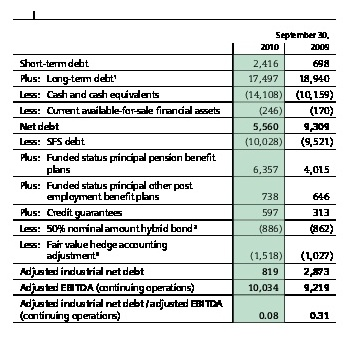table: (0, 0, 349, 337)
